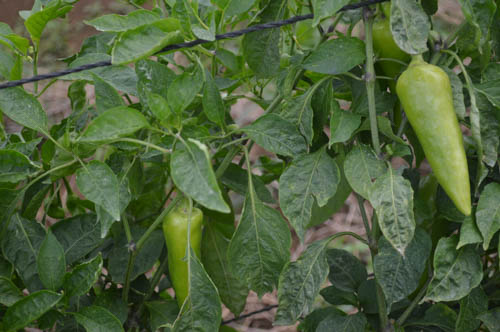ChiliPepper: (396, 67, 477, 216), (164, 209, 204, 311)
